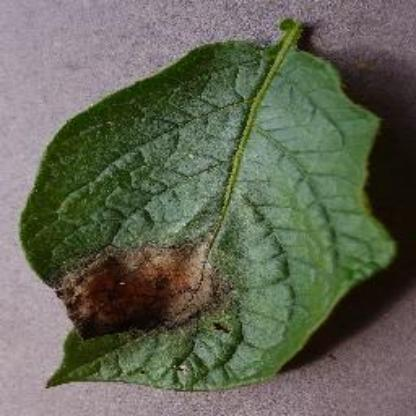Late-Blight: (17, 14, 406, 398)
